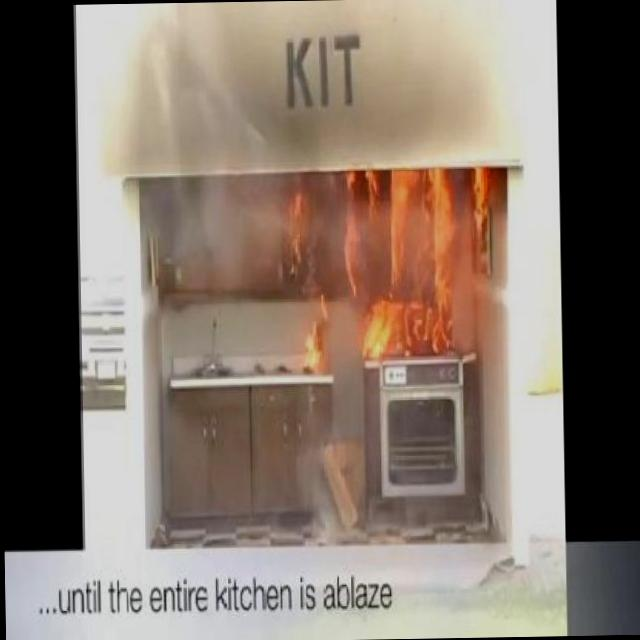fire: (267, 164, 508, 378)
smoke: (128, 16, 470, 171), (143, 172, 260, 348)
